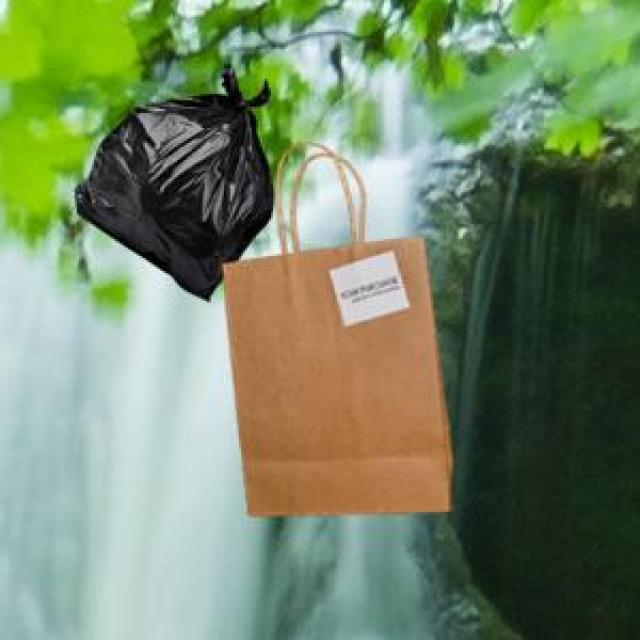miscellaneous trash: (70, 60, 269, 297)
paper: (220, 147, 448, 512)
